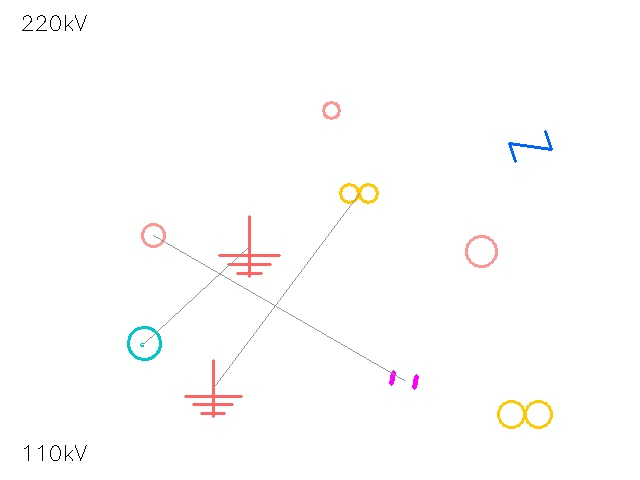capacitor: (385, 361, 423, 399)
circuit_breaker: (509, 125, 551, 167)
generator: (128, 327, 160, 359)
ground: (219, 216, 279, 276), (185, 360, 241, 416)
reactor: (450, 220, 512, 282), (131, 213, 175, 257), (314, 93, 348, 127)
transformer_2w: (492, 381, 558, 447), (335, 169, 383, 217)
